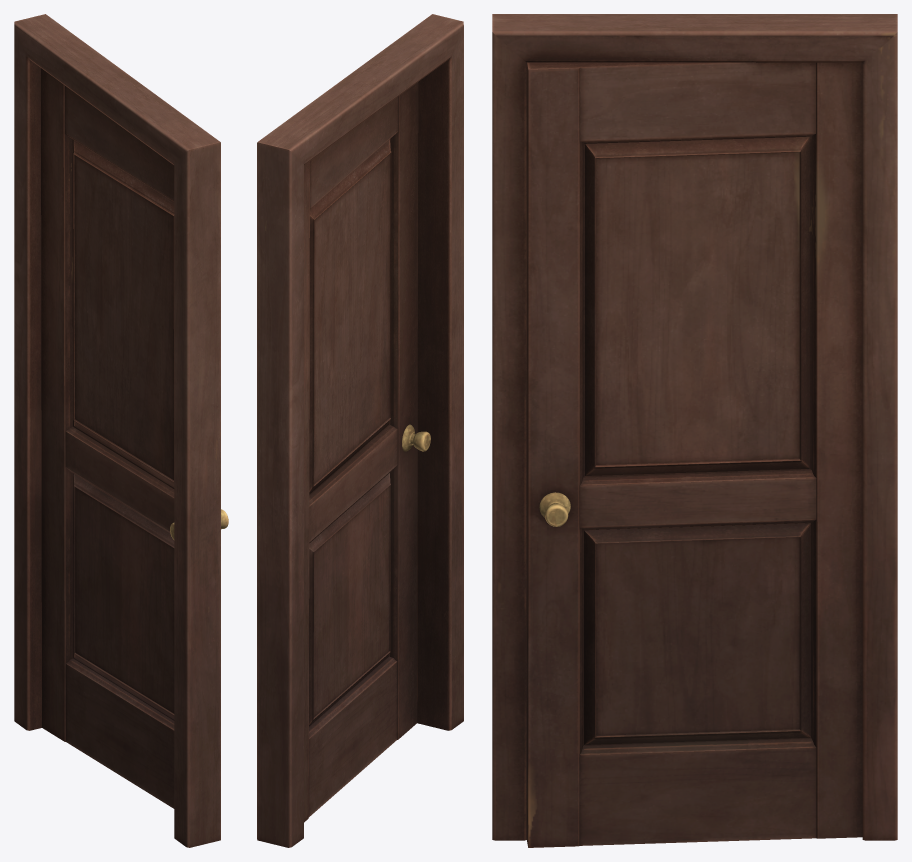
File: SM_DoorInterior.fbx
The picture shows the model from 3 angles, left to right: view 1: azimuth 30°, elevation 25°; view 2: azimuth 150°, elevation 25°; view 3: azimuth 270°, elevation 25°; orthographic projection. The views are drawn at different scales.
Visible parts, largest first — view 1: SM_DoorInterior_LOD0; view 2: SM_DoorInterior_LOD0; view 3: SM_DoorInterior_LOD0.
Part boxes in pixels (x1,y1,x2,y2): SM_DoorInterior_LOD0: (14, 14, 228, 847); SM_DoorInterior_LOD0: (257, 14, 463, 847); SM_DoorInterior_LOD0: (492, 14, 897, 847).
Size of the model in its own units: 20.07 by 94.44 by 208.
Materials: 1 (1 with a texture image).
